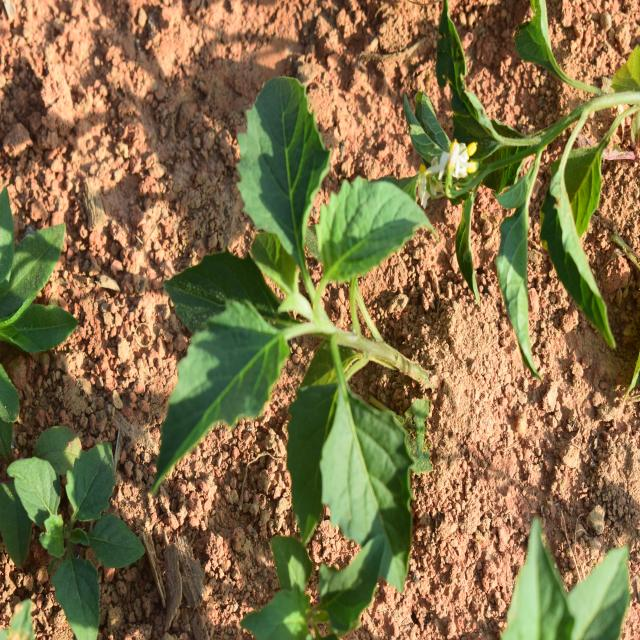Black_nightshade: (167, 77, 432, 576), (9, 429, 151, 619)
